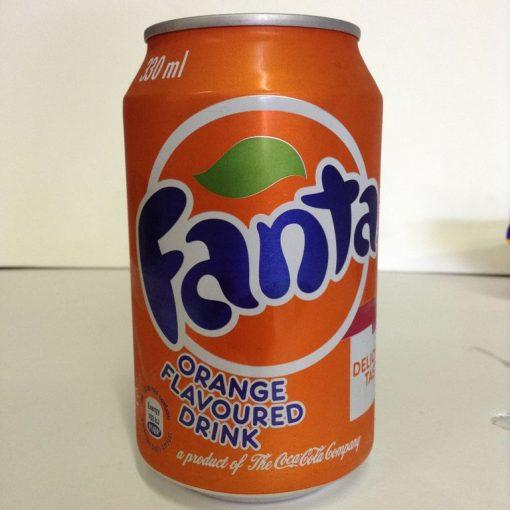metal: (123, 13, 382, 502)
